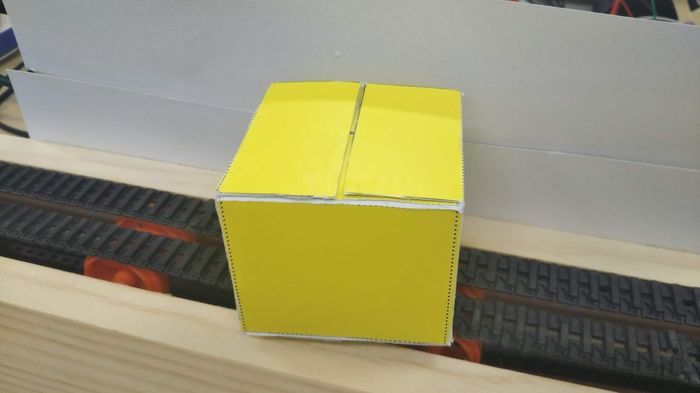box4: (210, 74, 469, 353)
